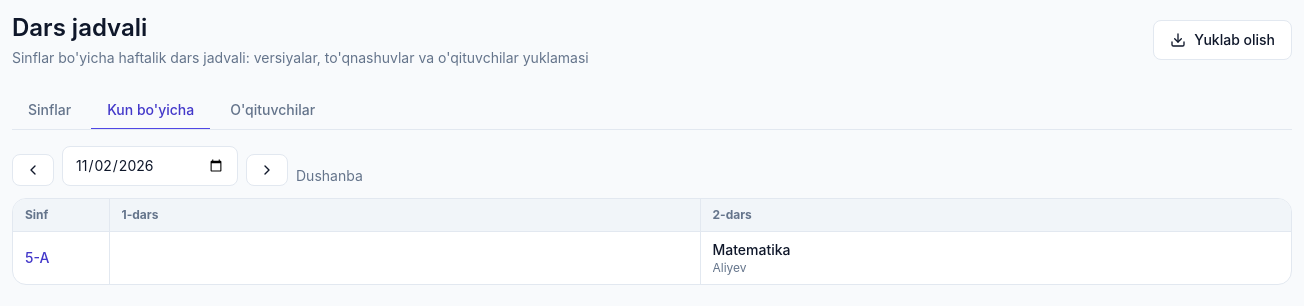
TimetableHomeView › kun bo'yicha tab va o'qituvchilar tab
The width and height of the screenshot is (1304, 306).
Expected: the cell with test id "day-cell-c1-2" shows "Matematika", [712,241,790,258]
Expected: the cell with test id "day-cell-c1-1" is empty, [109,232,700,284]
Step 1. Click the tab with test id "tab-teachers" → (273, 111), box [214,92,331,130]
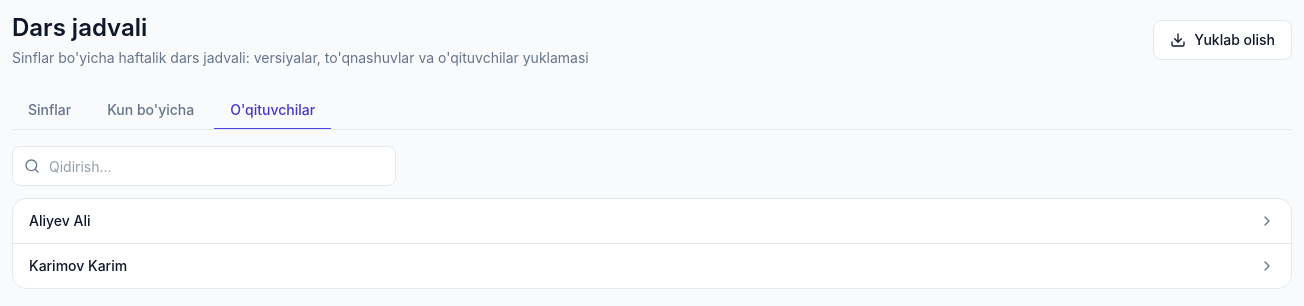
Now the list with test id "teacher-list" shows "Karimov Karim", box [13,244,1291,288]
Step 2. Type "aliyev" into the field with test id "teacher-search" → (204, 166), box [12,146,396,186]
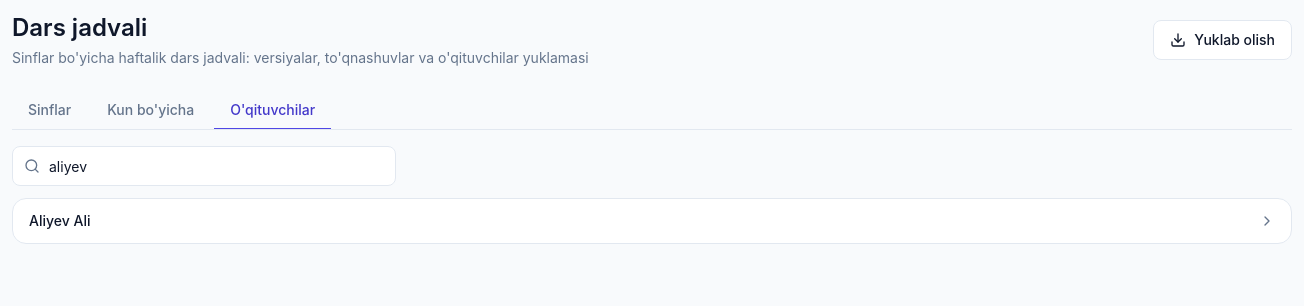
Now the link with test id "teacher-list" no longer shows "Karimov"
